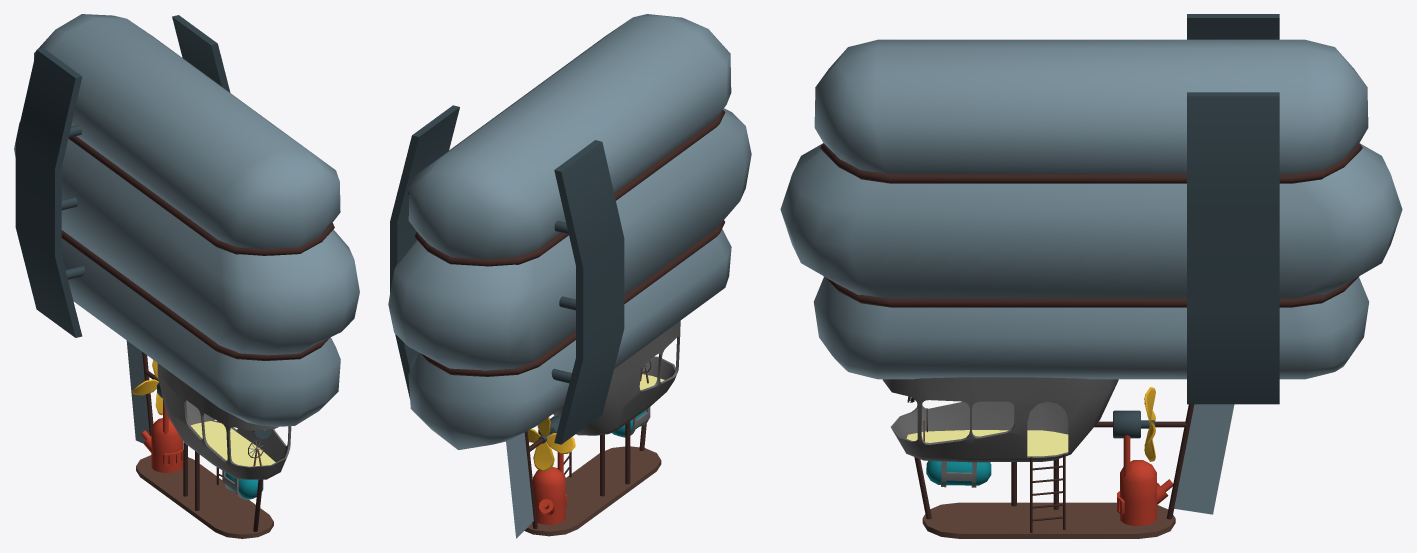
The model's file is solarmarinelife.glb.
3 views of the same model, side by side, from view 1: azimuth 30°, elevation 25°; view 2: azimuth 150°, elevation 25°; view 3: azimuth 270°, elevation 25° (orthographic). The views are drawn at different scales.
Parts seen in each view (by area): view 1: envelope, stabilizers, gondola, lower_platform, ropes, gondola_floor, boiler, rudder, pillars, blades, hydrogen_tank; view 2: envelope, stabilizers, lower_platform, gondola, ropes, rudder, boiler, pillars, blades; view 3: envelope, stabilizers, gondola, ropes, lower_platform, rudder, boiler, pillars, gondola_floor, hydrogen_tank, engine, ladder.
Boxes of the visible parts, <box> form: envelope: <box>14,14,359,426</box>; stabilizers: <box>15,15,230,337</box>; gondola: <box>157,363,291,479</box>; lower_platform: <box>136,455,273,538</box>; ropes: <box>61,136,334,360</box>; gondola_floor: <box>191,421,275,466</box>; boiler: <box>141,400,182,472</box>; rudder: <box>126,340,149,443</box>; pillars: <box>142,352,262,531</box>; blades: <box>132,360,162,415</box>; hydrogen_tank: <box>225,473,263,499</box>; envelope: <box>388,14,751,449</box>; stabilizers: <box>390,105,624,444</box>; lower_platform: <box>524,446,661,536</box>; gondola: <box>553,321,680,435</box>; ropes: <box>414,110,725,376</box>; rudder: <box>506,432,533,538</box>; boiler: <box>532,446,565,524</box>; pillars: <box>524,421,646,528</box>; blades: <box>527,417,575,471</box>; envelope: <box>780,39,1402,379</box>; stabilizers: <box>1187,14,1279,404</box>; gondola: <box>882,377,1118,462</box>; ropes: <box>820,143,1362,307</box>; lower_platform: <box>922,502,1175,538</box>; rudder: <box>1174,404,1234,514</box>; boiler: <box>1120,435,1173,525</box>; pillars: <box>914,404,1194,519</box>; gondola_floor: <box>906,430,1068,456</box>; hydrogen_tank: <box>926,461,991,485</box>; engine: <box>1113,410,1154,438</box>; ladder: <box>1030,454,1065,532</box>.
Size of the model in its own units: 8.96 by 18.66 by 22.14.
Materials: 1 (1 with a texture image).
